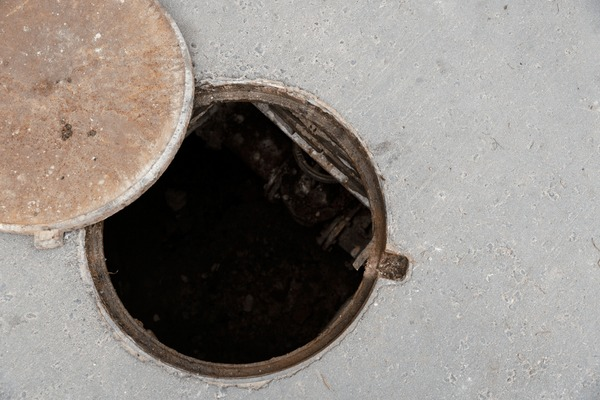open_manhole: (87, 93, 386, 365)
